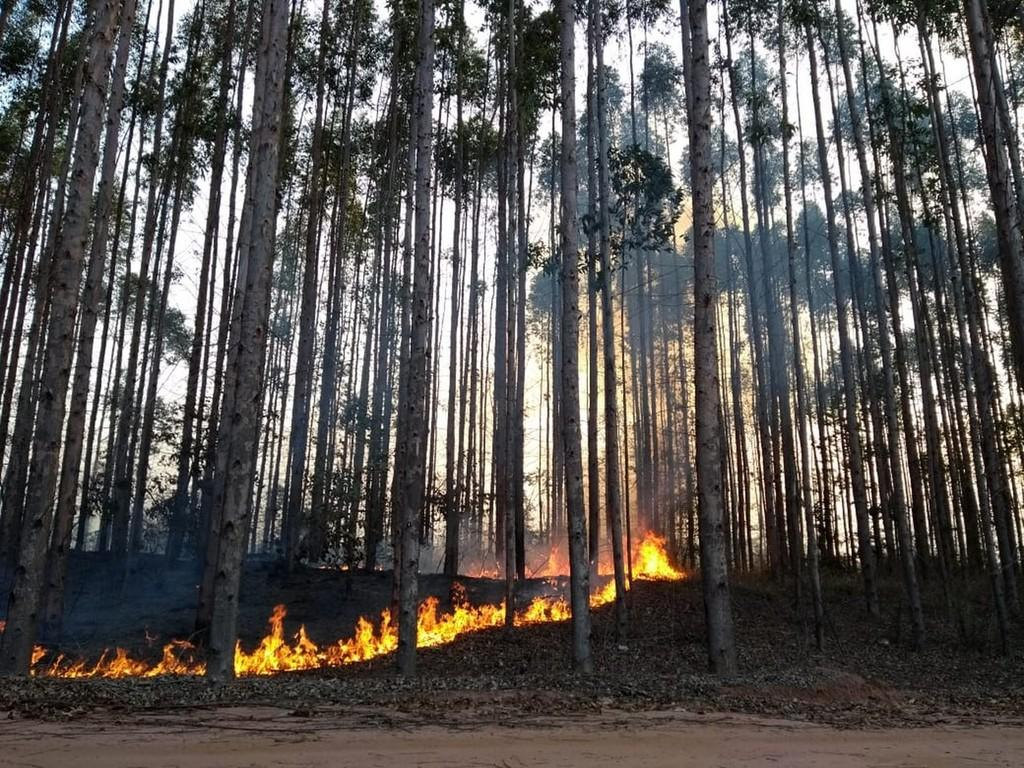fire: (428, 582, 570, 634), (251, 623, 404, 671), (40, 643, 190, 676), (596, 551, 674, 598)
